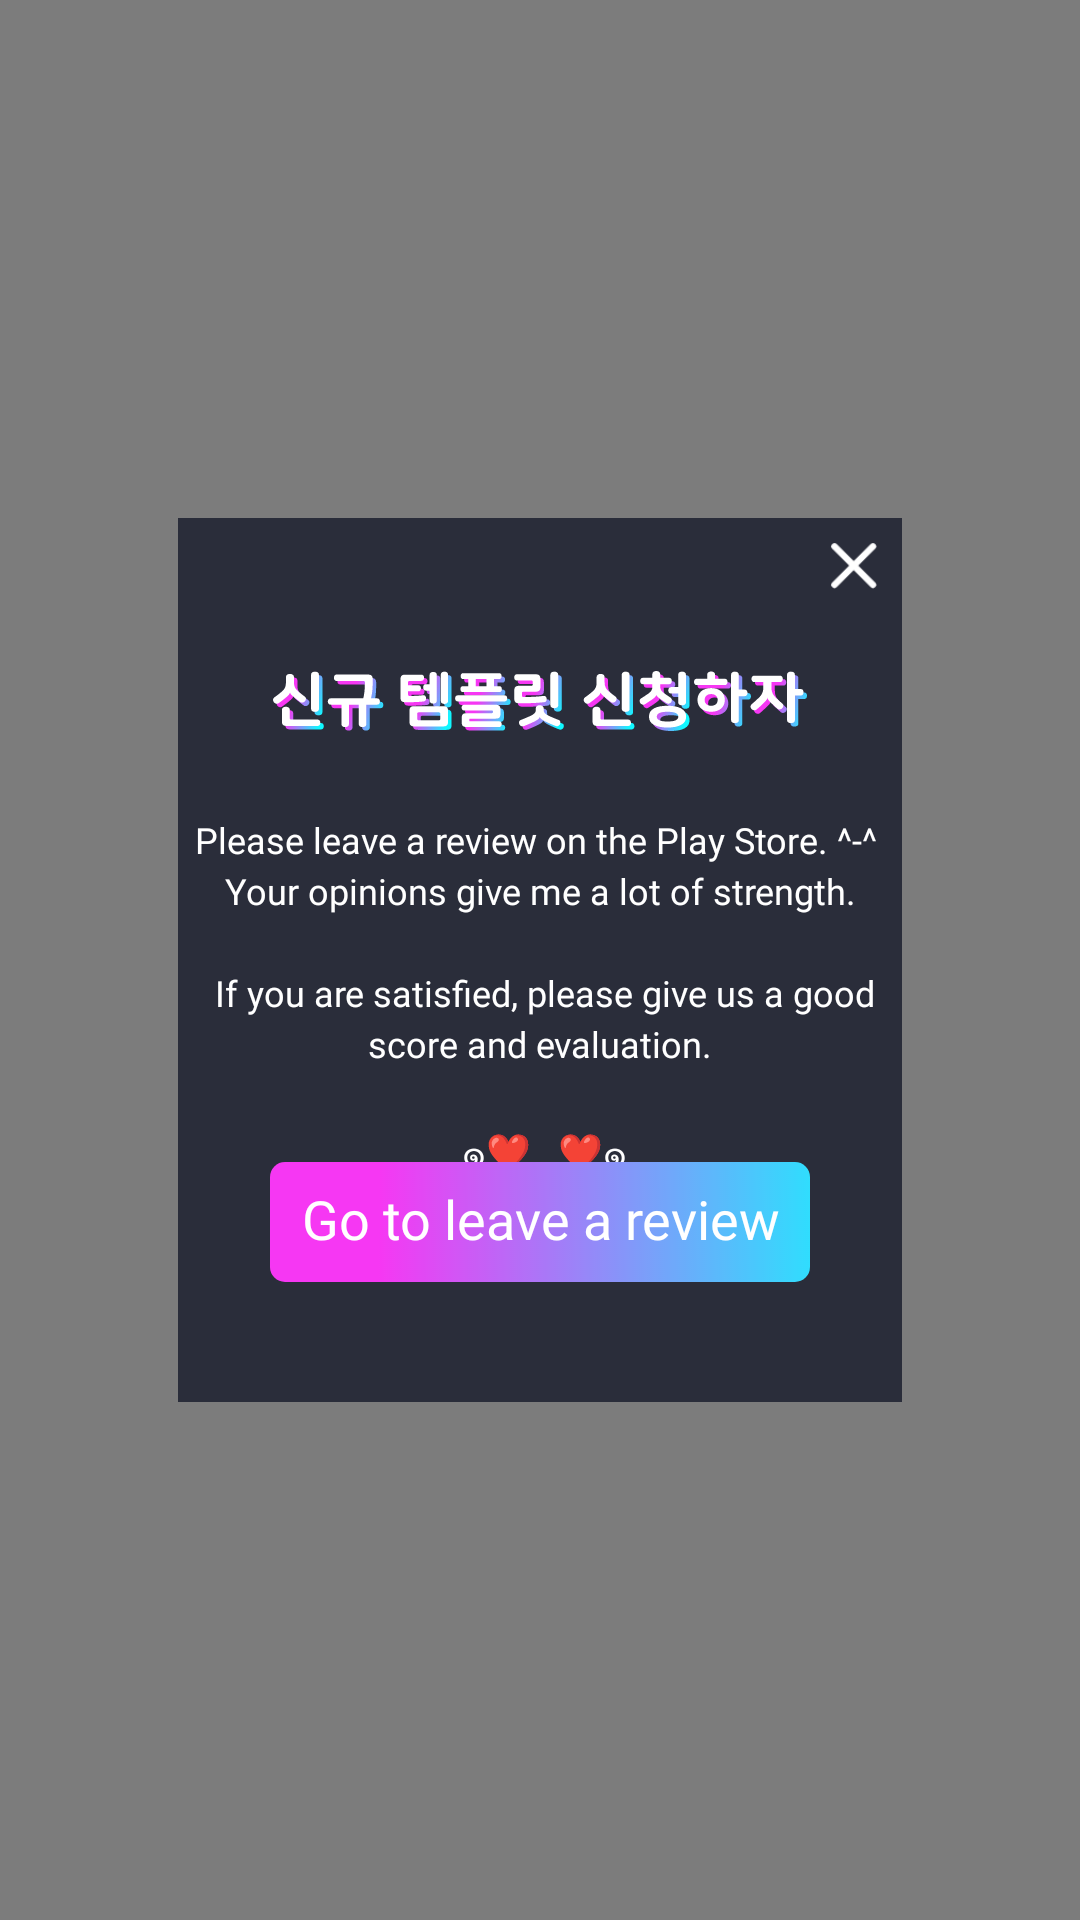

Icons on this 1080 x 1920 Android screen, each with its box as (x1,y1,x2,y2):
delete: (831,543,877,589)
